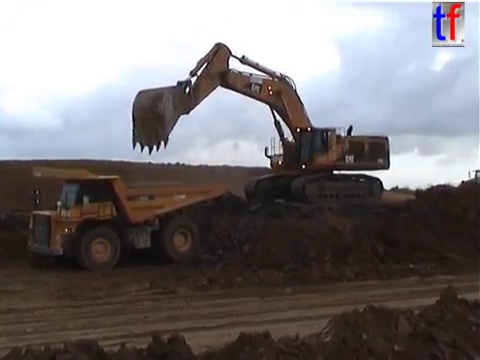excavator: (129, 40, 391, 207)
truck: (21, 164, 228, 272), (457, 168, 480, 198)
